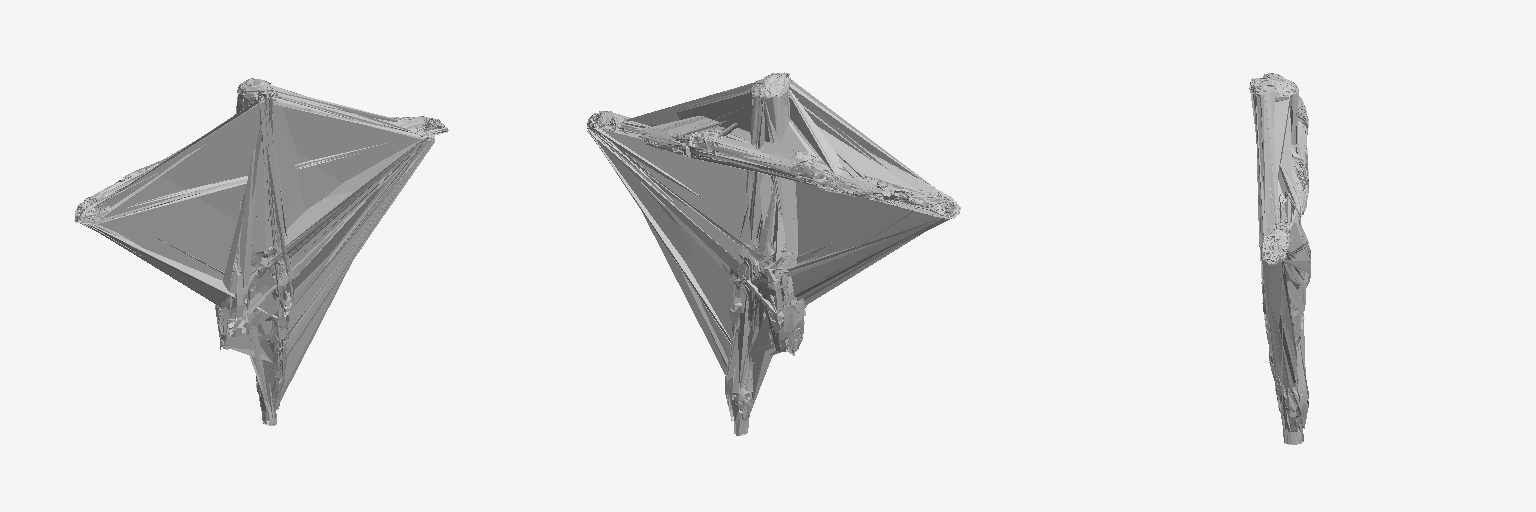
The model's file is weres.obj.
The picture shows the model from 3 angles: view 1: azimuth 30°, elevation 25°; view 2: azimuth 150°, elevation 25°; view 3: azimuth 270°, elevation 25°; orthographic projection.
Visible parts, largest first — view 1: Model001_24_genericitem1nPart!_1_0_0, Model001_24_Material37_1_0_0; view 2: Model001_24_genericitem1nPart!_1_0_0, Model001_24_Material37_1_0_0, Model001_24_body_1_0_0; view 3: Model001_24_genericitem1nPart!_1_0_0, Model001_24_Material37_1_0_0.
Boxes of the visible parts, x1=… form: Model001_24_genericitem1nPart!_1_0_0: x1=74, y1=79, x2=448, y2=425; Model001_24_Material37_1_0_0: x1=215, y1=79, x2=433, y2=425; Model001_24_genericitem1nPart!_1_0_0: x1=587, y1=73, x2=960, y2=433; Model001_24_Material37_1_0_0: x1=587, y1=73, x2=806, y2=421; Model001_24_body_1_0_0: x1=732, y1=72, x2=790, y2=435; Model001_24_genericitem1nPart!_1_0_0: x1=1249, y1=73, x2=1310, y2=444; Model001_24_Material37_1_0_0: x1=1250, y1=78, x2=1310, y2=441.
Bounding box in the file's own units: 1.93 × 1.75 × 0.2787.